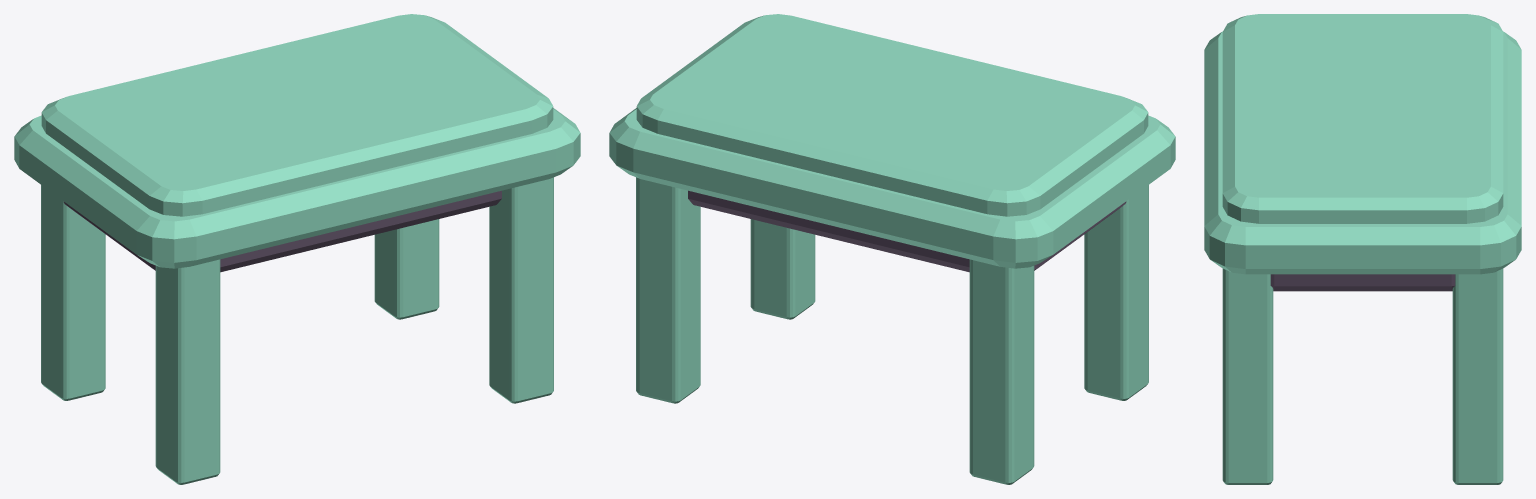
Rendered from vet_table.glb.
The picture shows the model from 3 angles, left to right: view 1: azimuth 30°, elevation 25°; view 2: azimuth 150°, elevation 25°; view 3: azimuth 270°, elevation 25°; orthographic projection.
Visible parts, largest first — view 1: model, leg, work_surface; view 2: model, leg, work_surface; view 3: model, work_surface, leg.
Boxes of the visible parts, x1,y1,x2,y2 form: model: (41, 14, 553, 272); leg: (41, 177, 553, 484); work_surface: (14, 108, 580, 268); model: (636, 14, 1148, 272); leg: (636, 177, 1148, 484); work_surface: (609, 108, 1175, 268); model: (1222, 14, 1503, 291); work_surface: (1204, 31, 1521, 274); leg: (1222, 268, 1503, 484).
Size of the model in its own units: 1.2 by 0.75 by 0.75.
